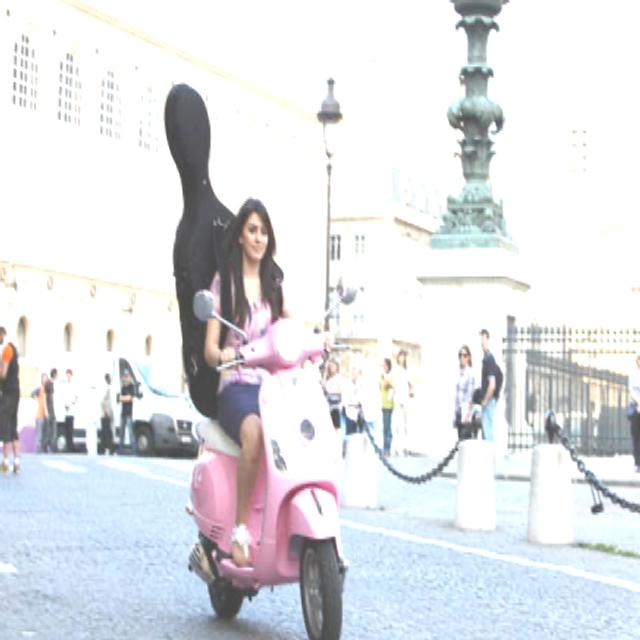Without Helmet: (222, 186, 282, 270)
